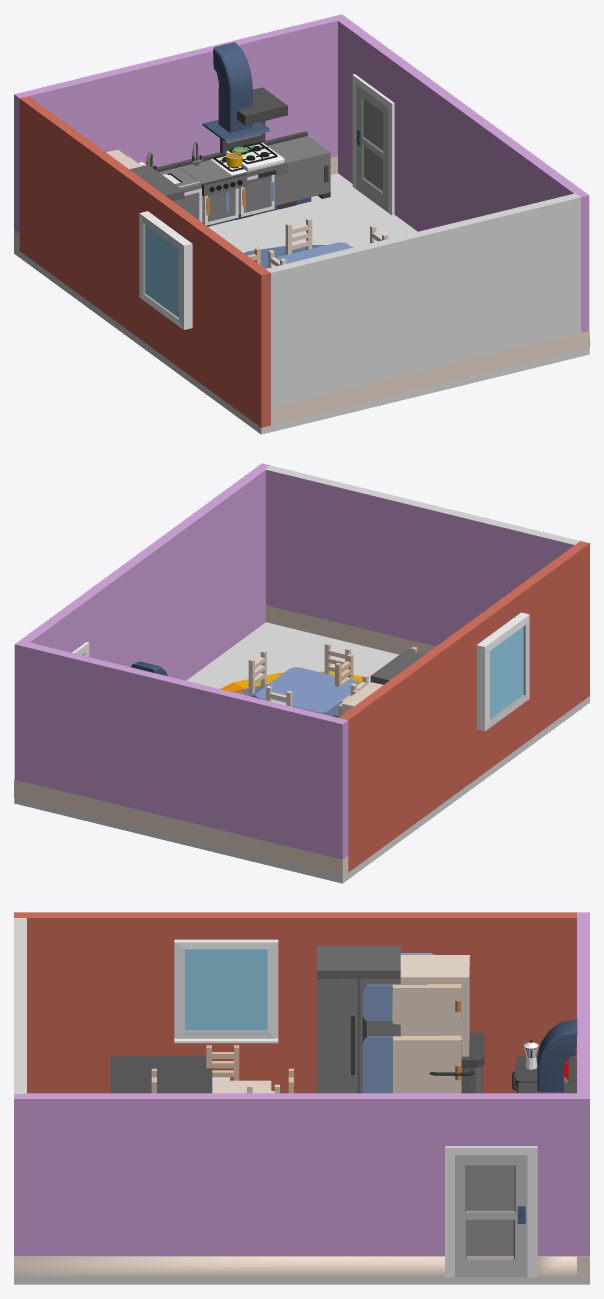
The model's file is Kitchen.fbx.
3 views of the same model, one above another, from view 1: azimuth 30°, elevation 25°; view 2: azimuth 150°, elevation 25°; view 3: azimuth 270°, elevation 25° (orthographic). The views are drawn at different scales.
Visible parts, largest first — view 1: Wall.008, RoomWall1, Wall.010, DoorWall.001, Floor, Door.002, Aspirator, Lv3Stove, Lv3KitchenTable, WindowFrame, Furnace, Glass (+6 smaller); view 2: Wall.010, Wall.008, RoomWall1, DoorWall.001, Floor, ShortRoomWall, Lv2 Table, WindowFrame, Glass, Lv3Fridge, Lv1 Table; view 3: DoorWall.001, RoomWall1, Fridge.001, Lv3Fridge, Door.002, Glass, Floor, Wall.010, WindowFrame, Lv3Table, Fridge.002, Wall.008 (+6 smaller).
Boxes of the visible parts, box(x1,y1,x2,y2) form: Wall.008: box(266, 193, 580, 425); RoomWall1: box(19, 96, 270, 427); Wall.010: box(14, 14, 346, 233); DoorWall.001: box(338, 18, 589, 347); Floor: box(14, 173, 589, 434); Door.002: box(356, 84, 388, 212); Aspirator: box(202, 42, 270, 143); Lv3Stove: box(220, 87, 287, 217); Lv3KitchenTable: box(265, 131, 330, 207); WindowFrame: box(139, 211, 192, 329); Furnace: box(177, 152, 247, 226); Glass: box(145, 225, 178, 317); Wall.010: box(14, 640, 348, 859); Wall.008: box(265, 465, 579, 654); RoomWall1: box(339, 541, 589, 872); DoorWall.001: box(20, 463, 269, 680); Floor: box(14, 622, 589, 883); ShortRoomWall: box(14, 779, 348, 876); Lv2 Table: box(248, 642, 368, 717); WindowFrame: box(476, 612, 529, 731); Glass: box(490, 626, 523, 718); Lv3Fridge: box(370, 649, 425, 684); Lv1 Table: box(335, 646, 417, 702); DoorWall.001: box(14, 1093, 576, 1277); RoomWall1: box(14, 912, 576, 1093); Fridge.001: box(392, 955, 469, 1093); Lv3Fridge: box(317, 945, 400, 1093); Door.002: box(455, 1155, 527, 1277); Glass: box(185, 949, 267, 1030); Floor: box(14, 1276, 589, 1284); Wall.010: box(577, 912, 589, 1256); WindowFrame: box(174, 939, 278, 1043); Lv3Table: box(110, 1055, 229, 1093); Fridge.002: box(362, 953, 434, 1093); Wall.008: box(14, 918, 26, 1093).
Size of the model in its own units: 427 by 195 by 537.
